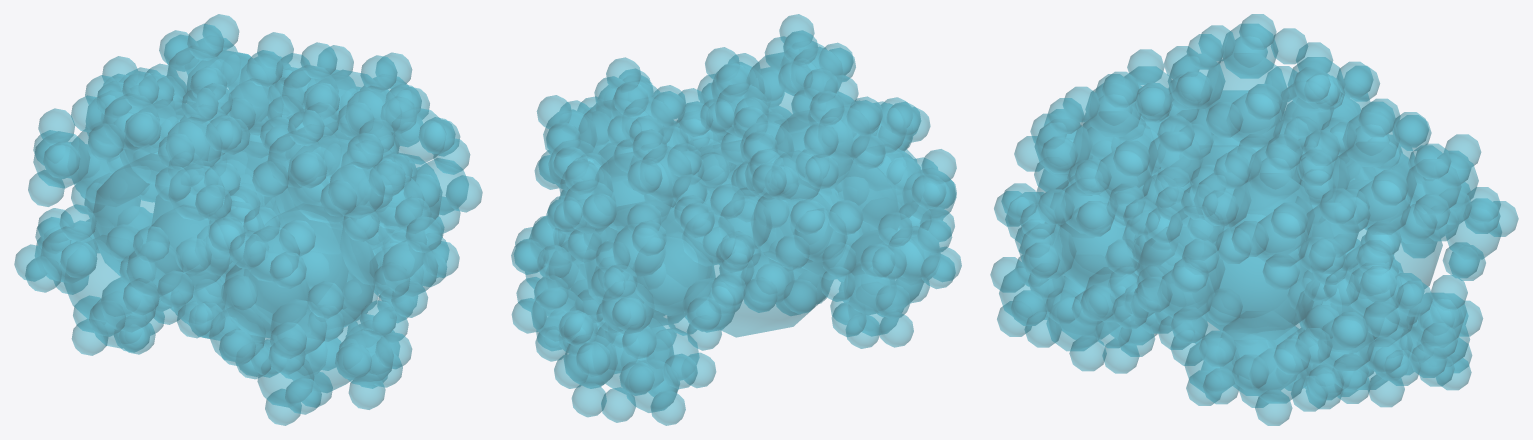
Rendered from fractals2.fbx.
3 views of the same model, side by side, from view 1: azimuth 30°, elevation 25°; view 2: azimuth 150°, elevation 25°; view 3: azimuth 270°, elevation 25° (orthographic). The views are drawn at different scales.
Visible parts, largest first — view 1: tree; view 2: tree; view 3: tree.
Part boxes in pixels (x1,y1,x2,y2): tree: (14, 14, 482, 425); tree: (511, 14, 961, 425); tree: (990, 14, 1518, 425).
Bounding box in the file's own units: 497 × 366 × 550.
